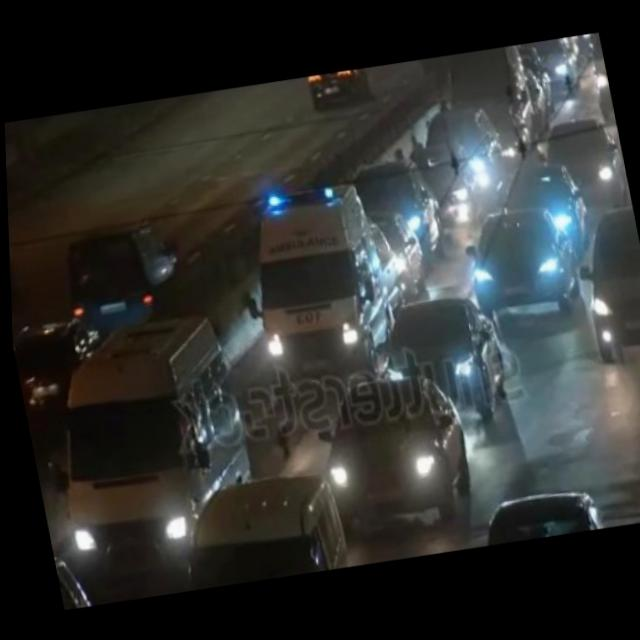emergency: (239, 181, 395, 389)
